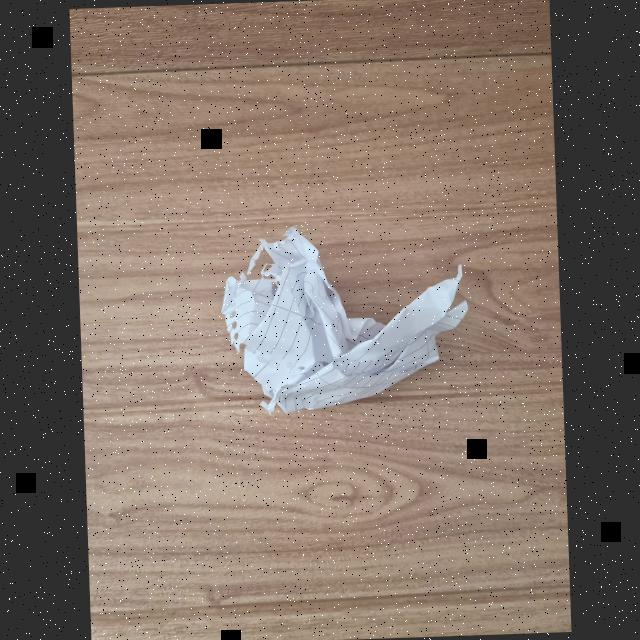scrap_paper: (219, 222, 479, 414)
